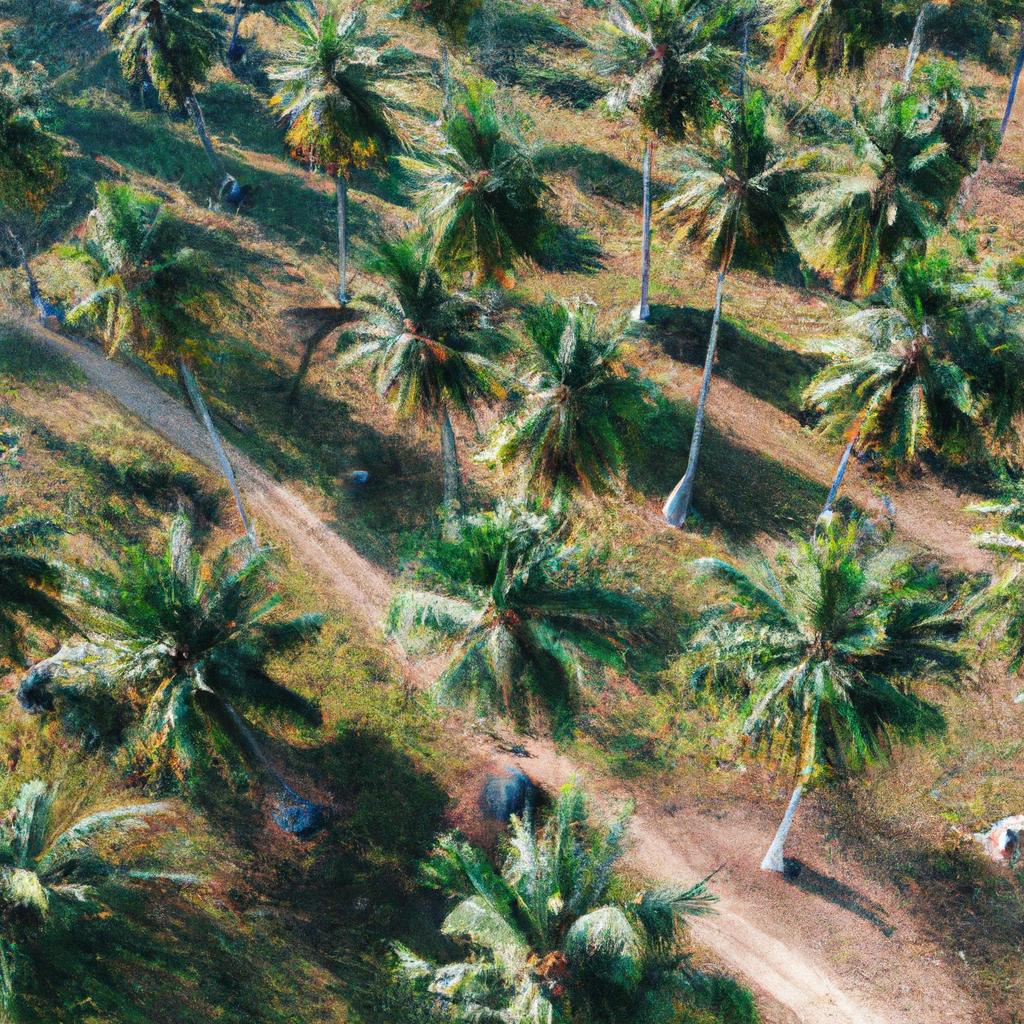coconut_tree: (42, 497, 353, 758), (688, 513, 975, 794), (380, 481, 648, 732), (54, 159, 270, 386), (423, 97, 604, 294), (351, 232, 510, 424), (655, 104, 807, 294), (256, 5, 423, 156)
